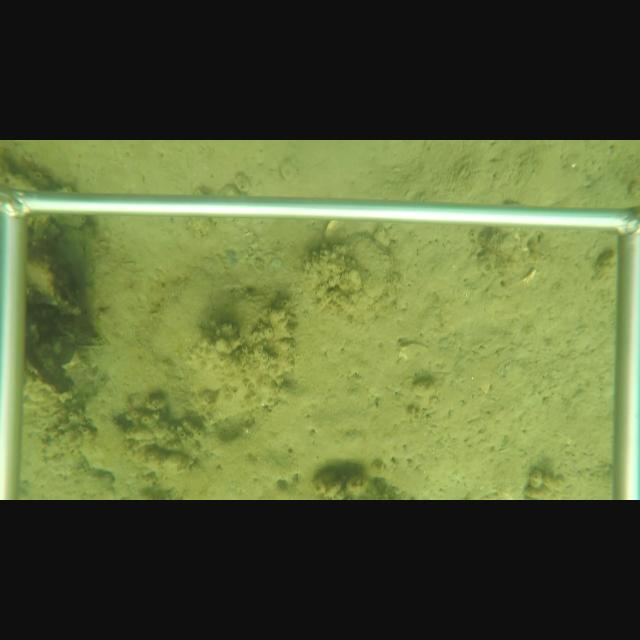Oyster-Closed: (336, 232, 395, 301), (323, 220, 345, 241)
